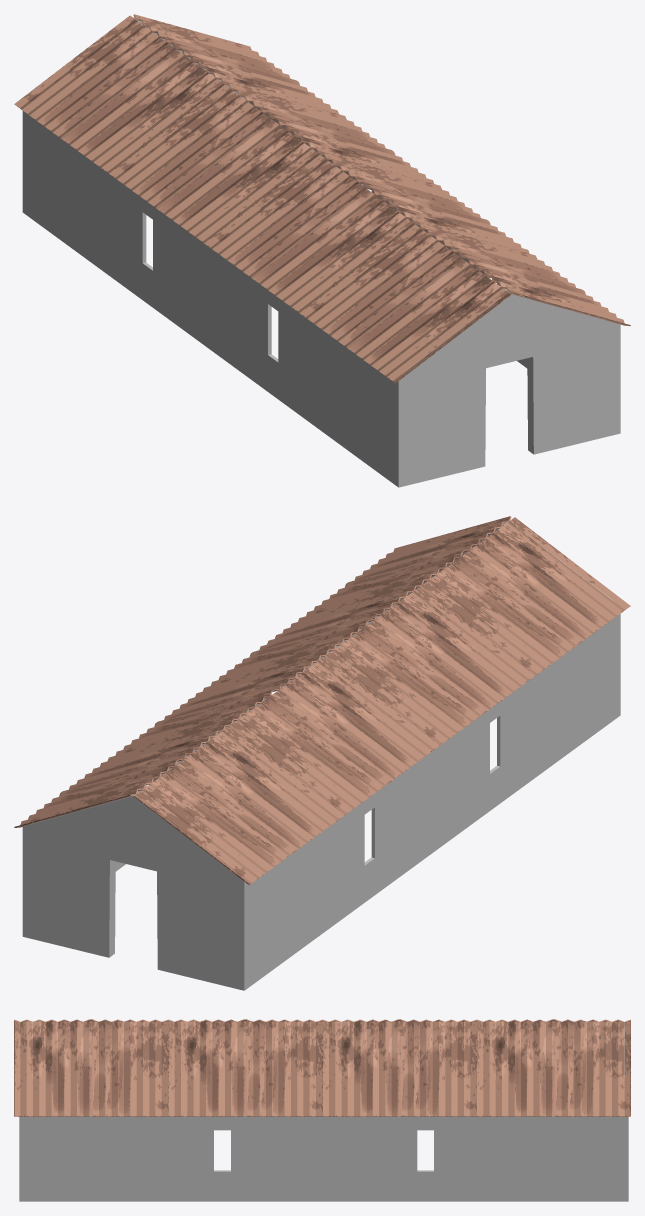
The model's file is Depozit.fbx.
3 renders of one model, top to bottom at view 1: azimuth 30°, elevation 25°; view 2: azimuth 150°, elevation 25°; view 3: azimuth 270°, elevation 25°, orthographic. The views are drawn at different scales.
Parts seen in each view (by area): view 1: Plane.001, Cube.001; view 2: Plane.001, Cube.001; view 3: Plane.001, Cube.001.
Part boxes in pixels (x1,y1,x2,y2): Plane.001: [14, 14, 630, 383]; Cube.001: [22, 17, 620, 487]; Plane.001: [14, 516, 630, 885]; Cube.001: [22, 520, 620, 990]; Plane.001: [14, 1019, 630, 1116]; Cube.001: [19, 1021, 628, 1201].
Size of the model in its own units: 213 by 146 by 595.
